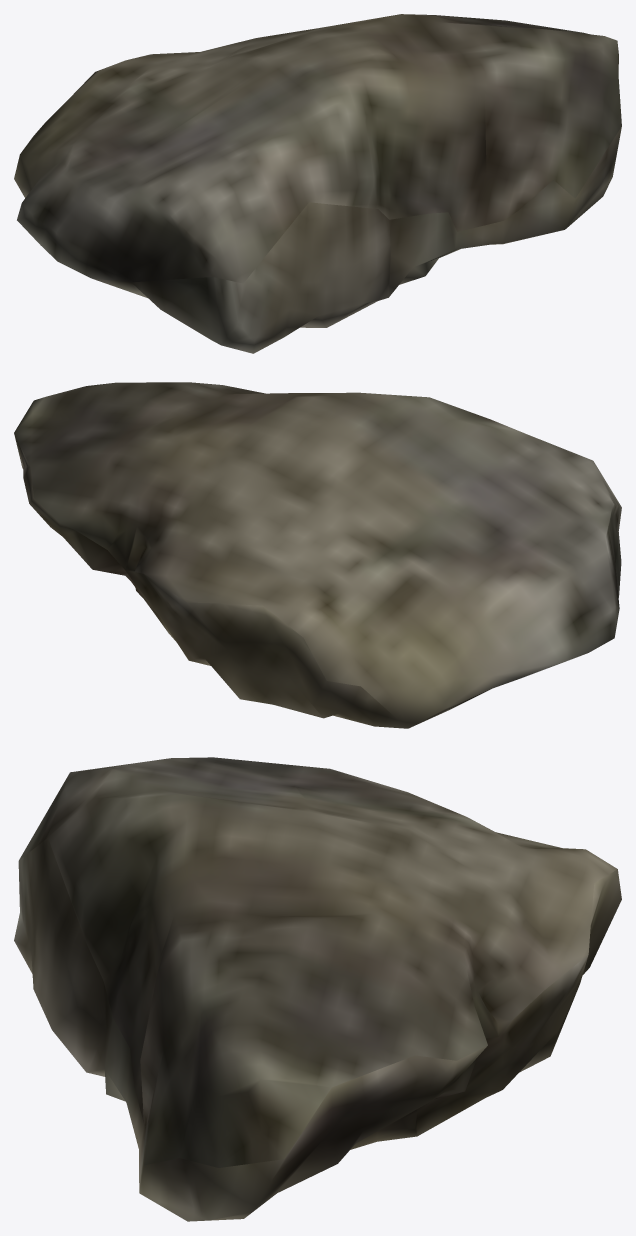
The picture shows the model from 3 angles, top to bottom: view 1: azimuth 30°, elevation 25°; view 2: azimuth 150°, elevation 25°; view 3: azimuth 270°, elevation 25°; orthographic projection. The views are drawn at different scales.
Visible parts, largest first — view 1: rock_moss_set_02__d_lod2; view 2: rock_moss_set_02__d_lod2; view 3: rock_moss_set_02__d_lod2.
Boxes of the visible parts, left/top/right/bottom form: rock_moss_set_02__d_lod2: left=14, top=14, right=621, bottom=353; rock_moss_set_02__d_lod2: left=14, top=382, right=621, bottom=728; rock_moss_set_02__d_lod2: left=14, top=757, right=621, bottom=1221.
Size of the model in its own units: 2.18 by 0.7503 by 1.53.
Materials: 1 (1 with a texture image).
